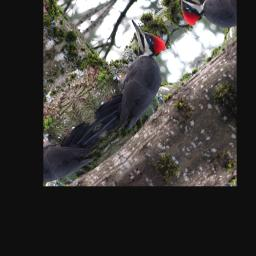Woodpecker: (61, 10, 195, 146)
